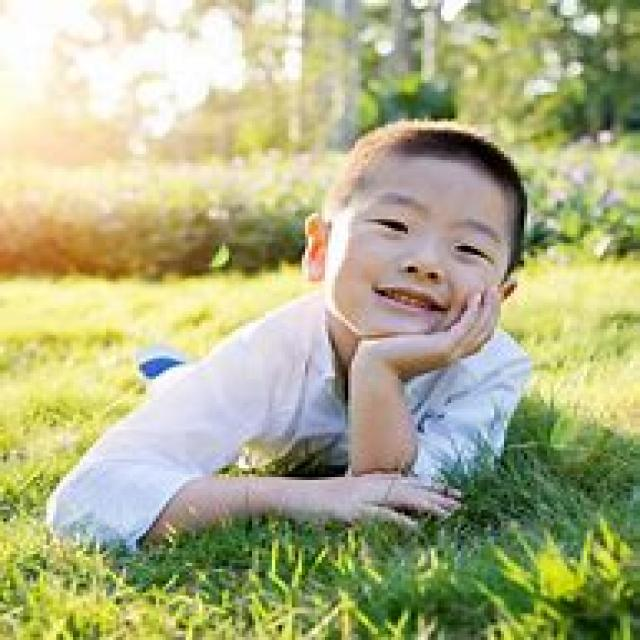lie: (86, 128, 550, 510)
